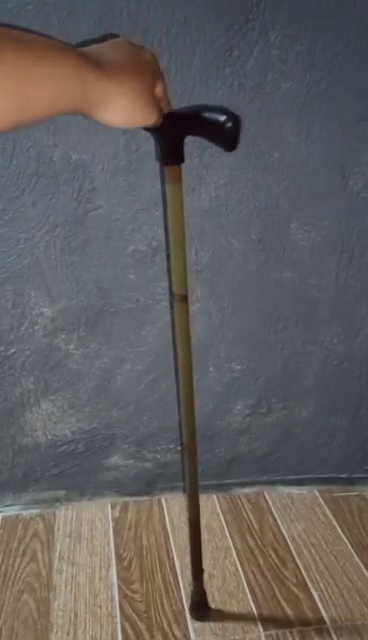cane: (139, 97, 244, 619)
hand: (70, 33, 175, 130)
